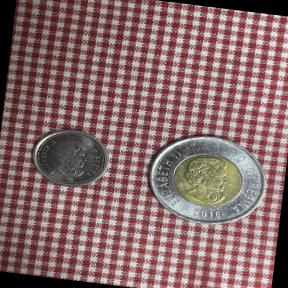coin: (132, 121, 276, 237), (23, 119, 116, 194)
